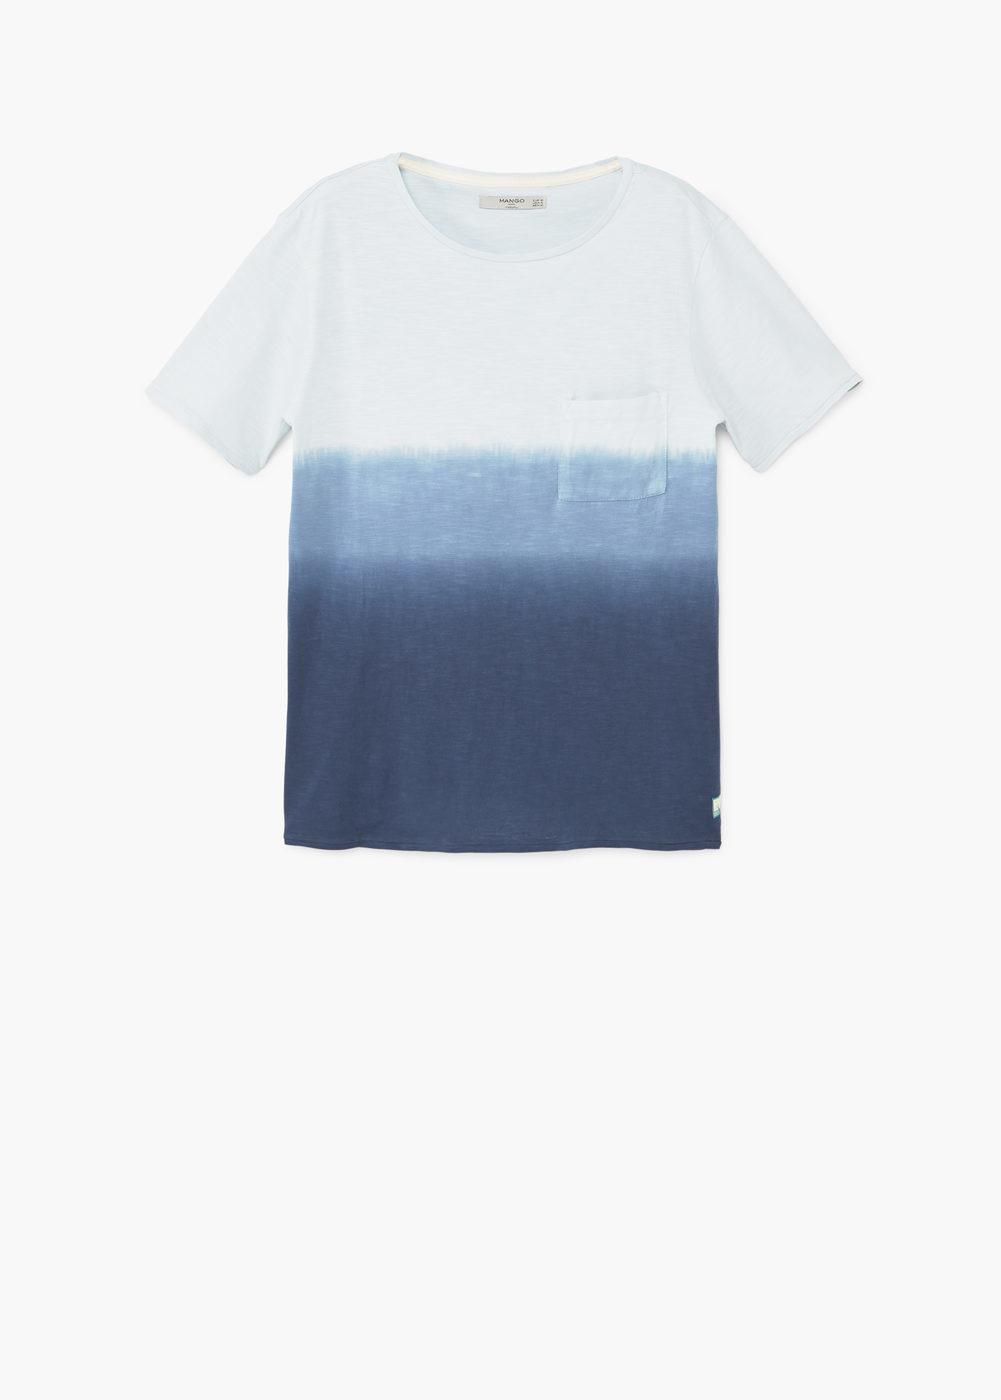teeshirt: (8, 8, 993, 1392)
